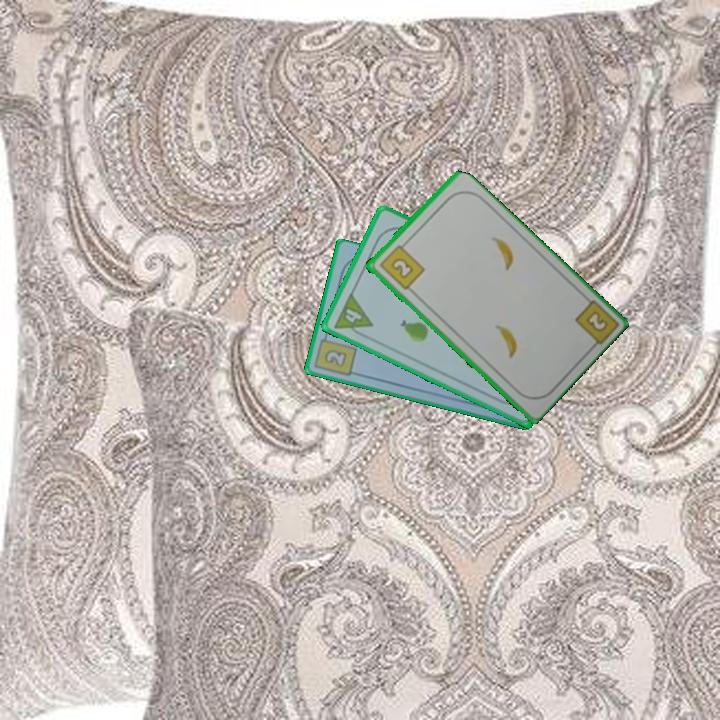2b: (375, 238, 427, 293), (312, 328, 360, 379), (582, 307, 611, 335)
4p: (330, 289, 376, 341)
